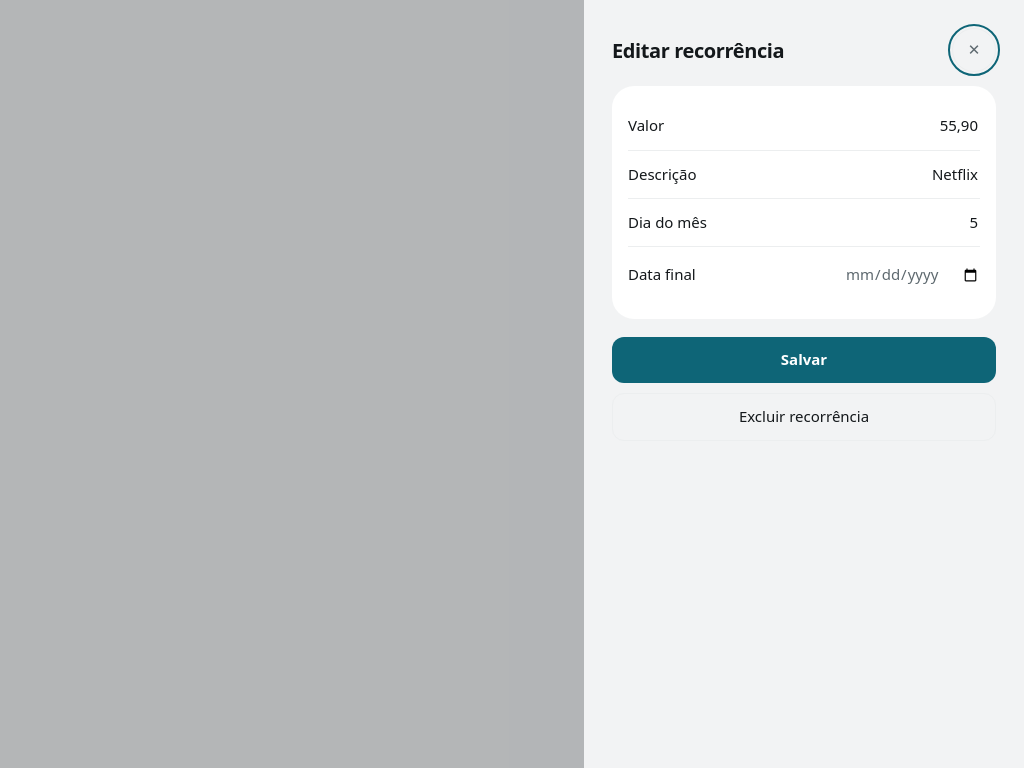
Test: RecurrenceSheet › shows the server's error and keeps the sheet open
Click the button "Salvar" at (804, 360), box [612, 337, 996, 383]
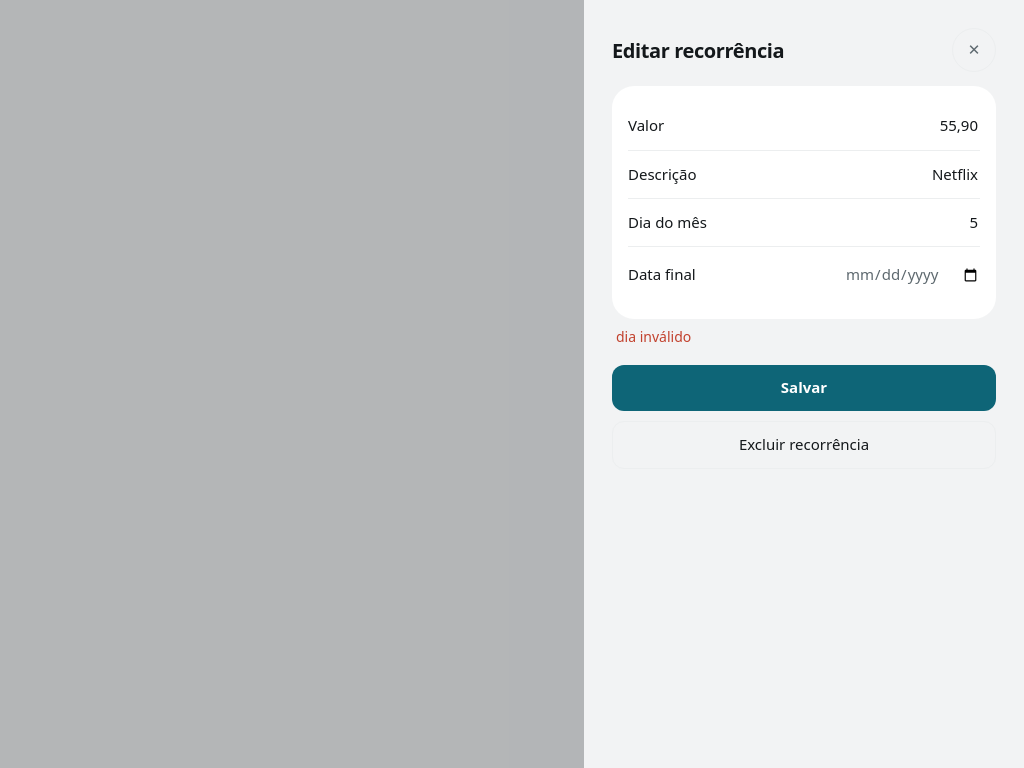
Expected: the text "dia inválido" is shown, [616, 327, 691, 346]
